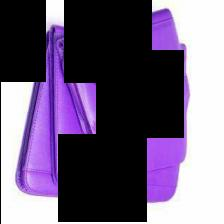purple: (15, 9, 188, 203)
